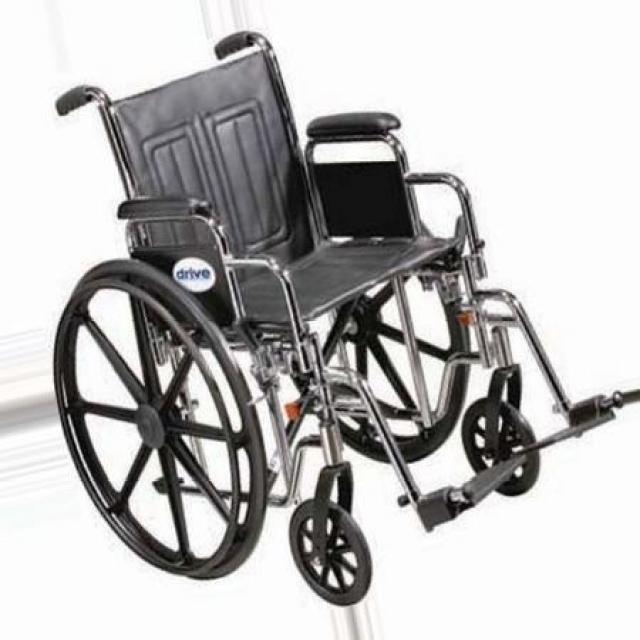wheelchair: (38, 24, 640, 617)
